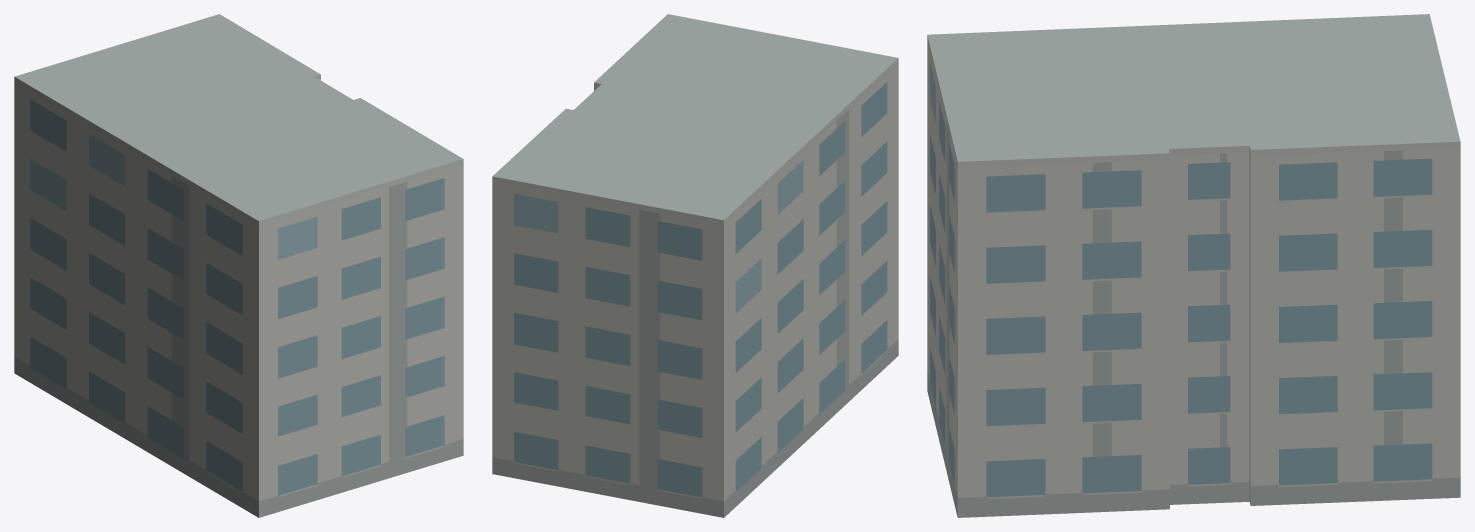
Rendered from survey-upis-32622592.glb.
3 renders of one model, left to right at view 1: azimuth 30°, elevation 25°; view 2: azimuth 150°, elevation 25°; view 3: azimuth 270°, elevation 25°, orthographic. The views are drawn at different scales.
Parts seen in each view (by area): view 1: survey-upis-32622592.tmp; view 2: survey-upis-32622592.tmp; view 3: survey-upis-32622592.tmp.
Boxes of the visible parts, x1,y1,x2,y2 form: survey-upis-32622592.tmp: (14, 14, 463, 517); survey-upis-32622592.tmp: (492, 14, 898, 517); survey-upis-32622592.tmp: (927, 14, 1460, 517).
Size of the model in its own units: 11.86 by 13.3 by 18.07.
